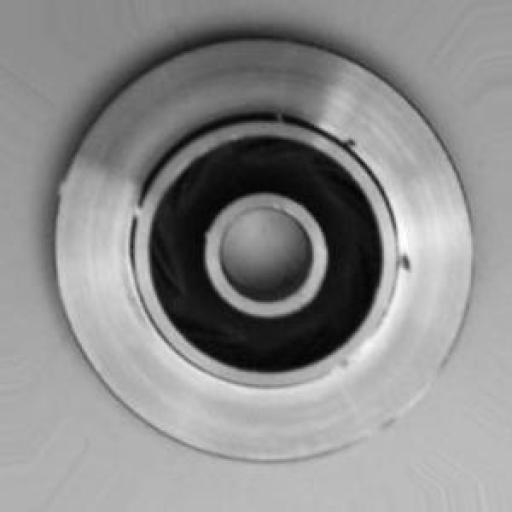defect: (338, 125, 420, 285)
